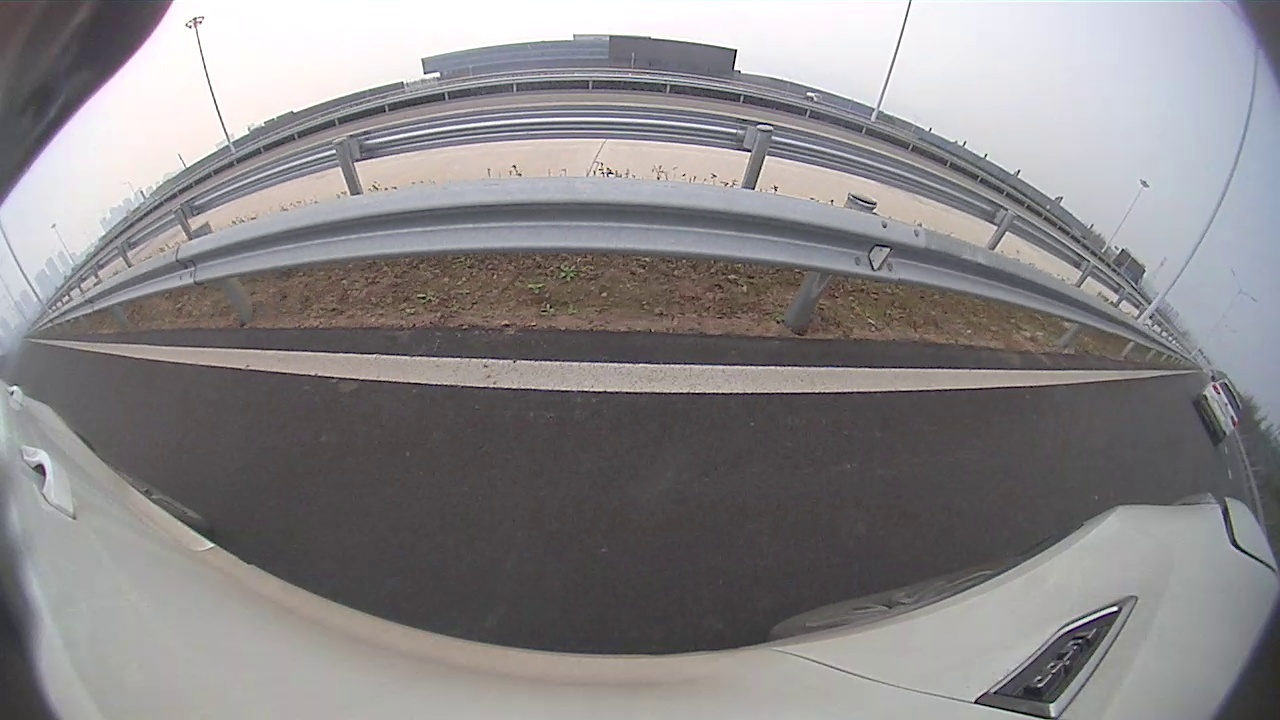car: (255, 139, 502, 289)
front: (479, 188, 500, 228)
rear: (371, 209, 414, 271)
